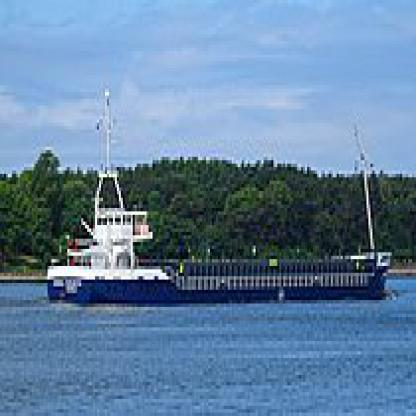Container Ship: (44, 83, 392, 304)
